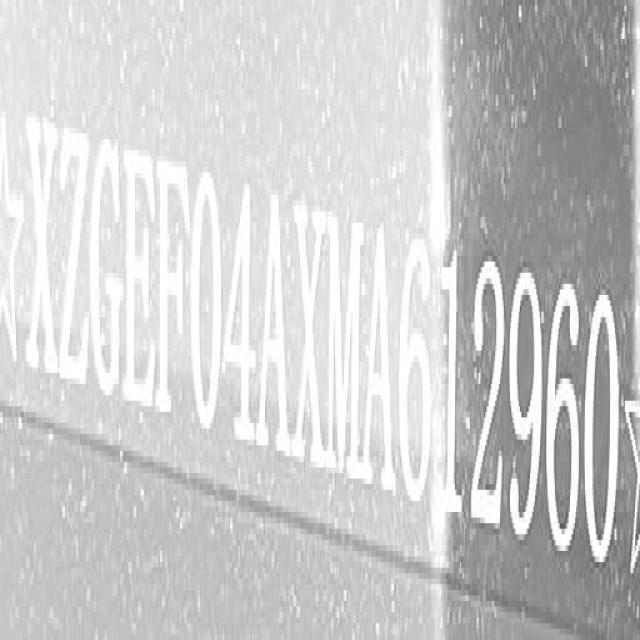0: (582, 288, 620, 567), (191, 164, 224, 439)
1: (438, 249, 463, 532)
2: (468, 254, 503, 536)
4: (223, 174, 256, 446)
6: (546, 276, 580, 560), (400, 230, 434, 507)
9: (509, 274, 544, 544)
A: (258, 186, 291, 456), (365, 221, 395, 494)
E: (126, 149, 159, 417)
F: (158, 151, 188, 424)
G: (92, 132, 124, 403)
M: (326, 207, 362, 483)
X: (22, 109, 59, 377), (293, 194, 326, 474)
Z: (59, 123, 90, 395)
